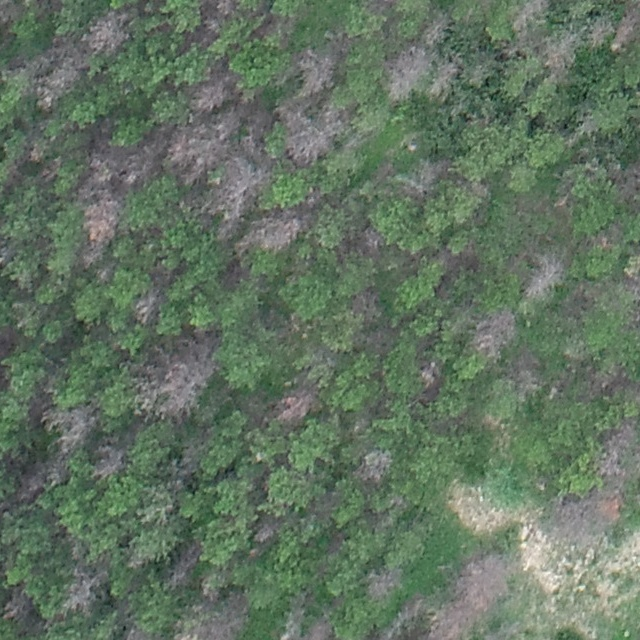unhealthy: (132, 331, 223, 425), (77, 122, 167, 201), (167, 115, 240, 186), (29, 35, 92, 113), (202, 159, 262, 236), (60, 540, 113, 618), (176, 588, 252, 640), (551, 491, 623, 545), (456, 547, 514, 612), (271, 105, 330, 168), (44, 393, 103, 454), (595, 415, 640, 481), (83, 199, 125, 268), (382, 45, 429, 102), (14, 455, 69, 502), (474, 302, 521, 355), (187, 68, 237, 116), (79, 8, 131, 53), (525, 248, 570, 300), (540, 30, 582, 84), (249, 217, 307, 256), (271, 384, 325, 425), (383, 592, 429, 640), (294, 47, 338, 96), (428, 601, 477, 640), (584, 370, 640, 401), (0, 581, 40, 624), (608, 0, 640, 53), (364, 564, 406, 603), (509, 0, 551, 36), (514, 350, 543, 402), (139, 485, 176, 525), (278, 591, 308, 640), (198, 0, 235, 39), (354, 450, 394, 485), (170, 541, 202, 583), (92, 448, 127, 486), (132, 286, 165, 325), (352, 283, 383, 324), (612, 163, 640, 208), (419, 11, 453, 48), (432, 61, 462, 102), (416, 156, 455, 185), (465, 54, 495, 88), (253, 512, 282, 544), (240, 120, 262, 162), (324, 105, 350, 138), (584, 15, 609, 49), (505, 35, 541, 58), (420, 358, 441, 389), (305, 618, 334, 640), (363, 227, 384, 254), (28, 138, 51, 162), (575, 113, 597, 137), (41, 156, 62, 181), (468, 180, 491, 199)
